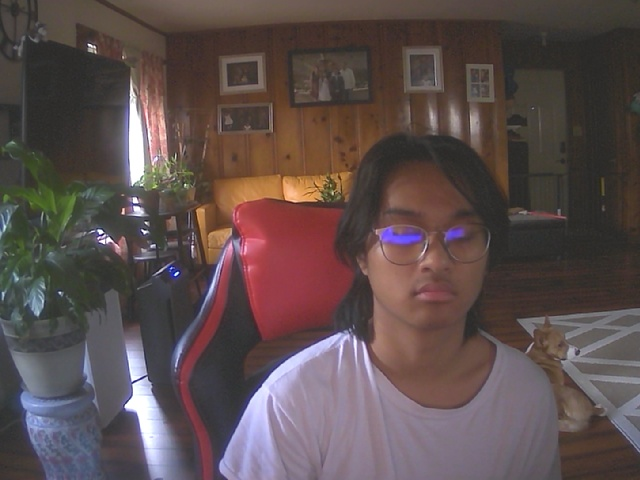neutral: (353, 136, 500, 332)
